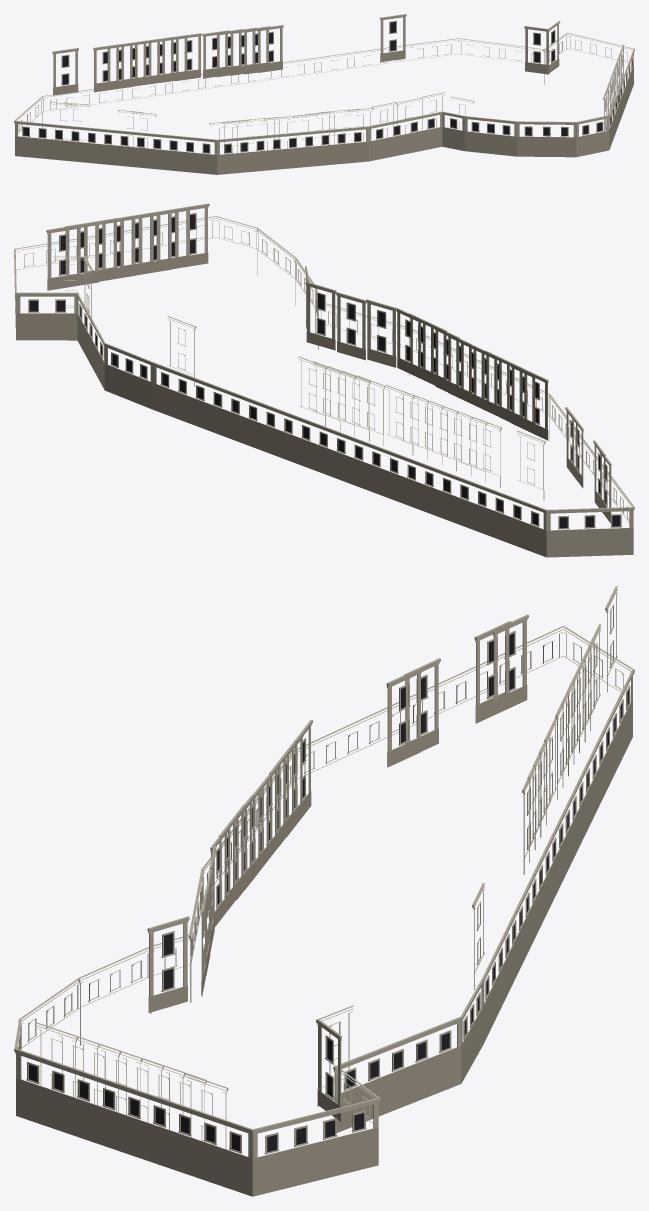
3 renders of one model, top to bottom at view 1: azimuth 30°, elevation 25°; view 2: azimuth 150°, elevation 25°; view 3: azimuth 270°, elevation 25°, orthographic. The views are drawn at different scales.
Parts seen in each view (by area): view 1: detail; view 2: detail; view 3: detail.
Boxes of the visible parts, x1=… form: detail: x1=14, y1=14, x2=634, y2=174; detail: x1=14, y1=203, x2=634, y2=557; detail: x1=14, y1=586, x2=634, y2=1196.
Bounding box in the file's own units: 128 × 18.47 × 66.71.
